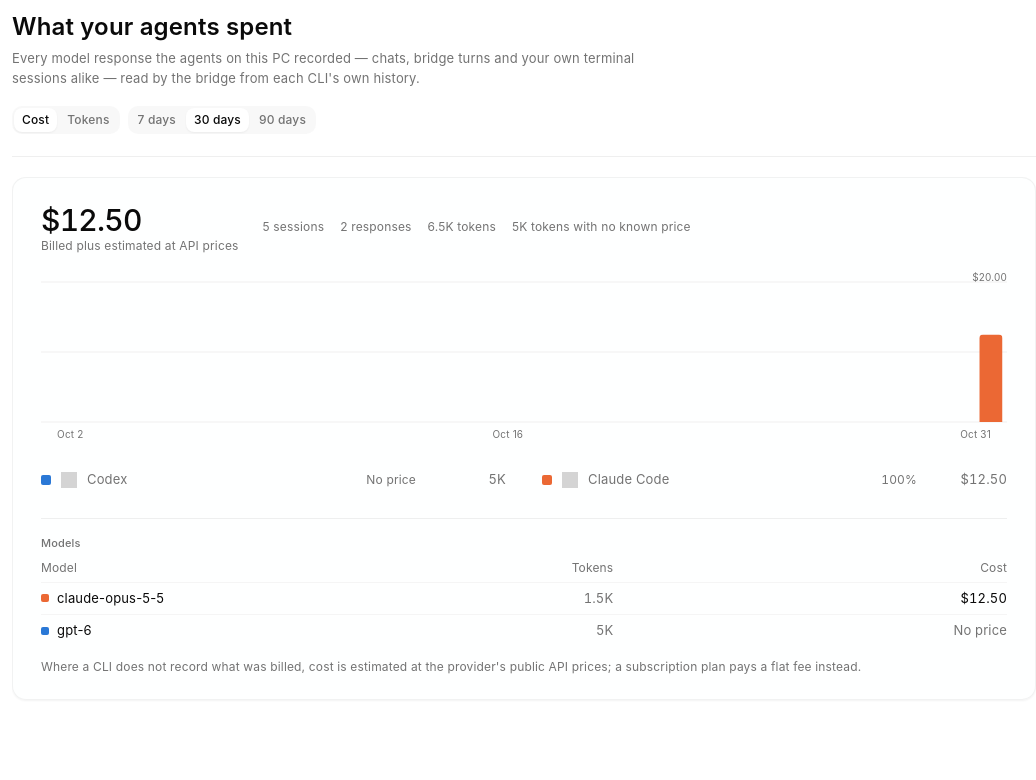
it: ProviderSpend › focuses one agent from the legend, and back
The width and height of the screenshot is (1036, 780).
Click the button "Codex No price 5K". click: (107, 479)
box: [31,462,516,498]
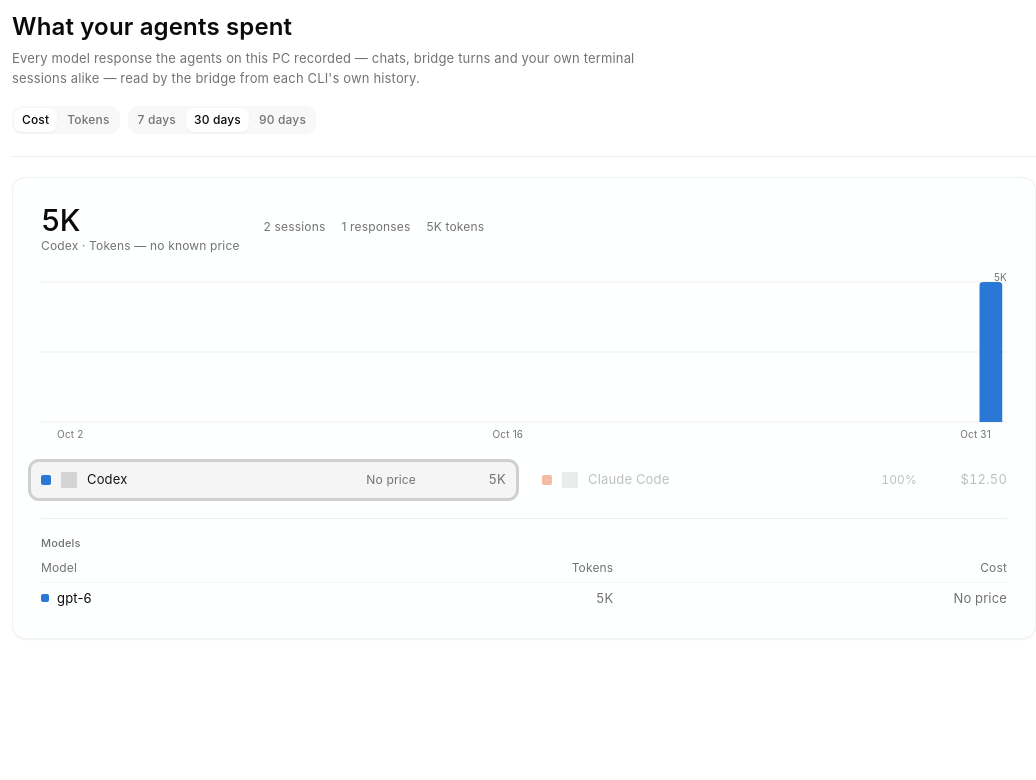
Result: the text "Codex · Tokens — no known price" is shown at [41,238,240,254]
Result: the text "claude-opus-5-5" is gone
Click the button "Codex No price 5K". click: (107, 479)
box: [31,462,516,498]
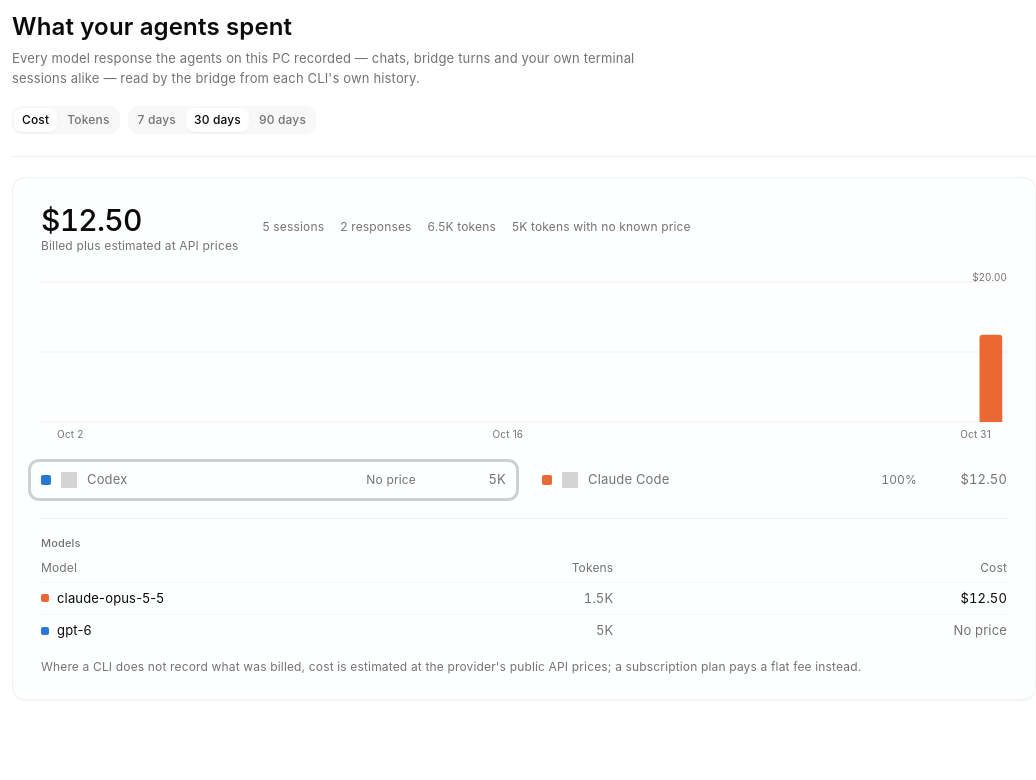
Result: the text "claude-opus-5-5" is shown at [57,588,164,608]
